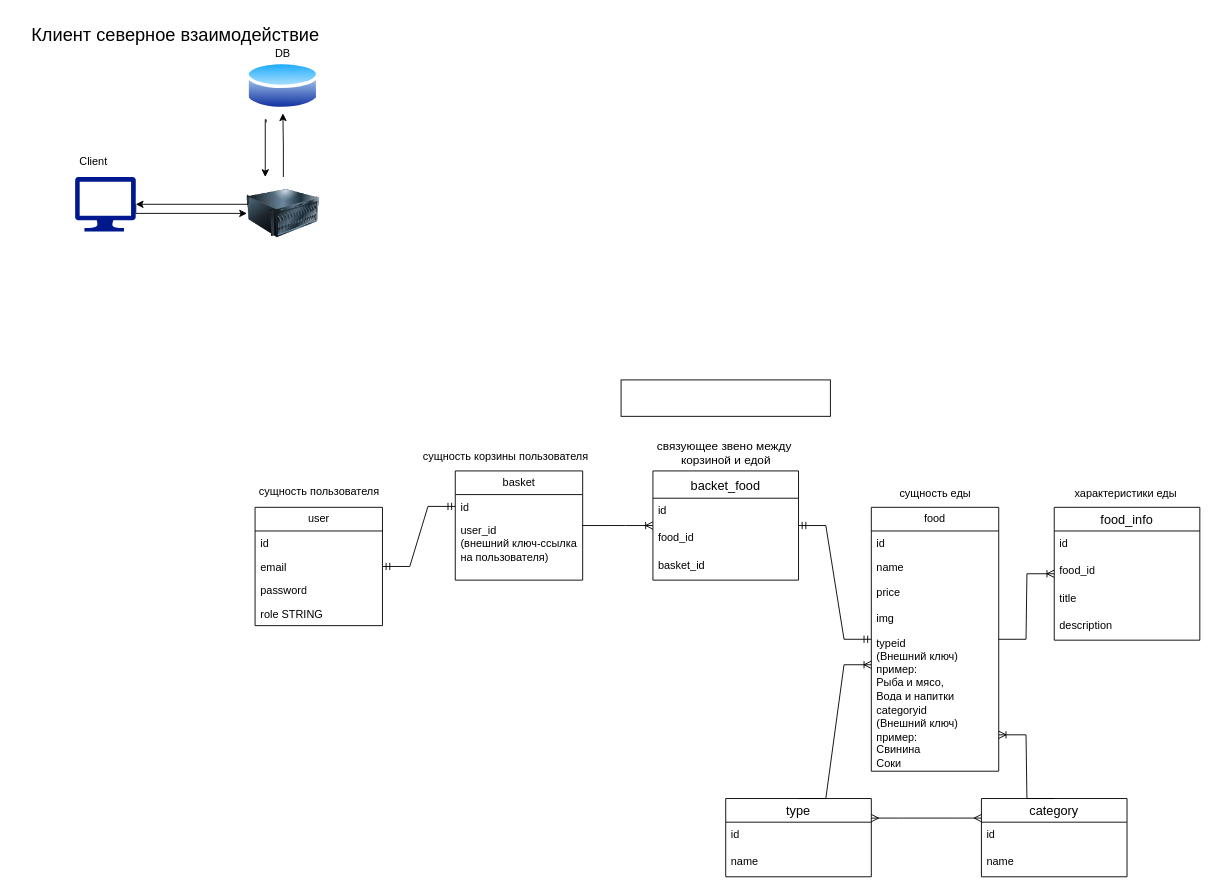
Image size: 1216x895. Some labels were removed from this diagram. The centre of each missing label's shape, as x and y in pixels:
Server: point 283,213
Диаграмма схемы БД: point 725,397
